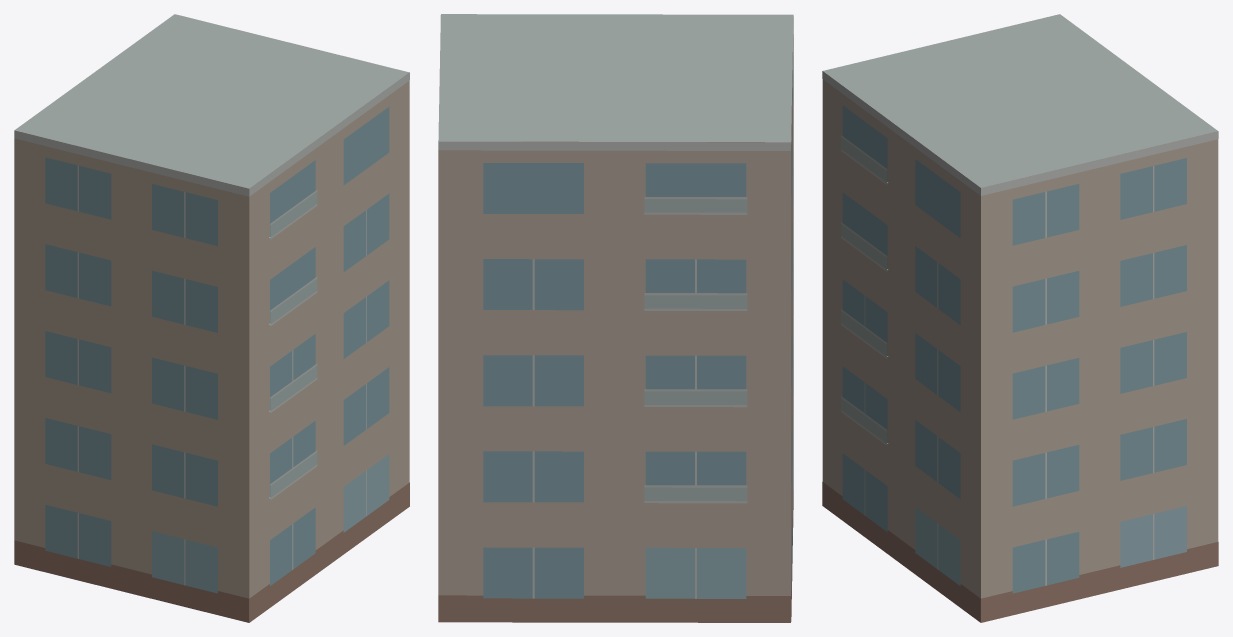
The model's file is survey-upis-32928024.glb.
3 renders of one model, left to right at view 1: azimuth 30°, elevation 25°; view 2: azimuth 150°, elevation 25°; view 3: azimuth 270°, elevation 25°, orthographic. The views are drawn at different scales.
Parts seen in each view (by area): view 1: survey-upis-32928024.tmp; view 2: survey-upis-32928024.tmp; view 3: survey-upis-32928024.tmp.
Part boxes in pixels (bbox=[...]): survey-upis-32928024.tmp: bbox=[14, 14, 409, 622]; survey-upis-32928024.tmp: bbox=[438, 14, 793, 622]; survey-upis-32928024.tmp: bbox=[822, 14, 1218, 622].
Bounding box in the file's own units: 11.33 × 13.2 × 10.9.
